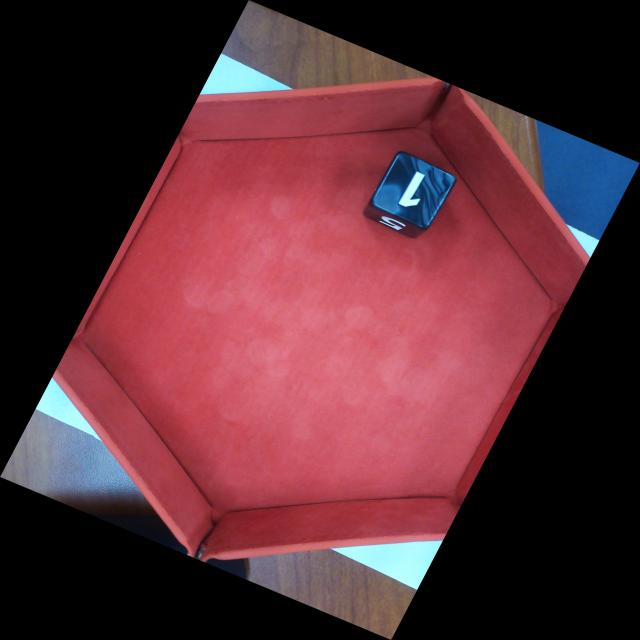dice: (376, 156, 453, 228)
